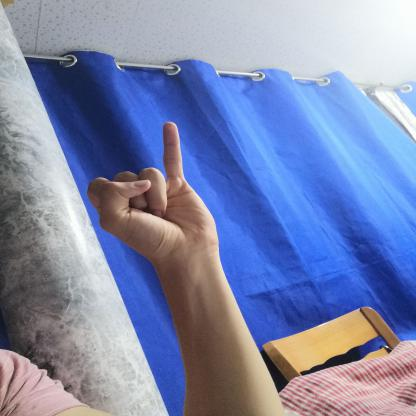MEEM: (70, 115, 219, 266)
